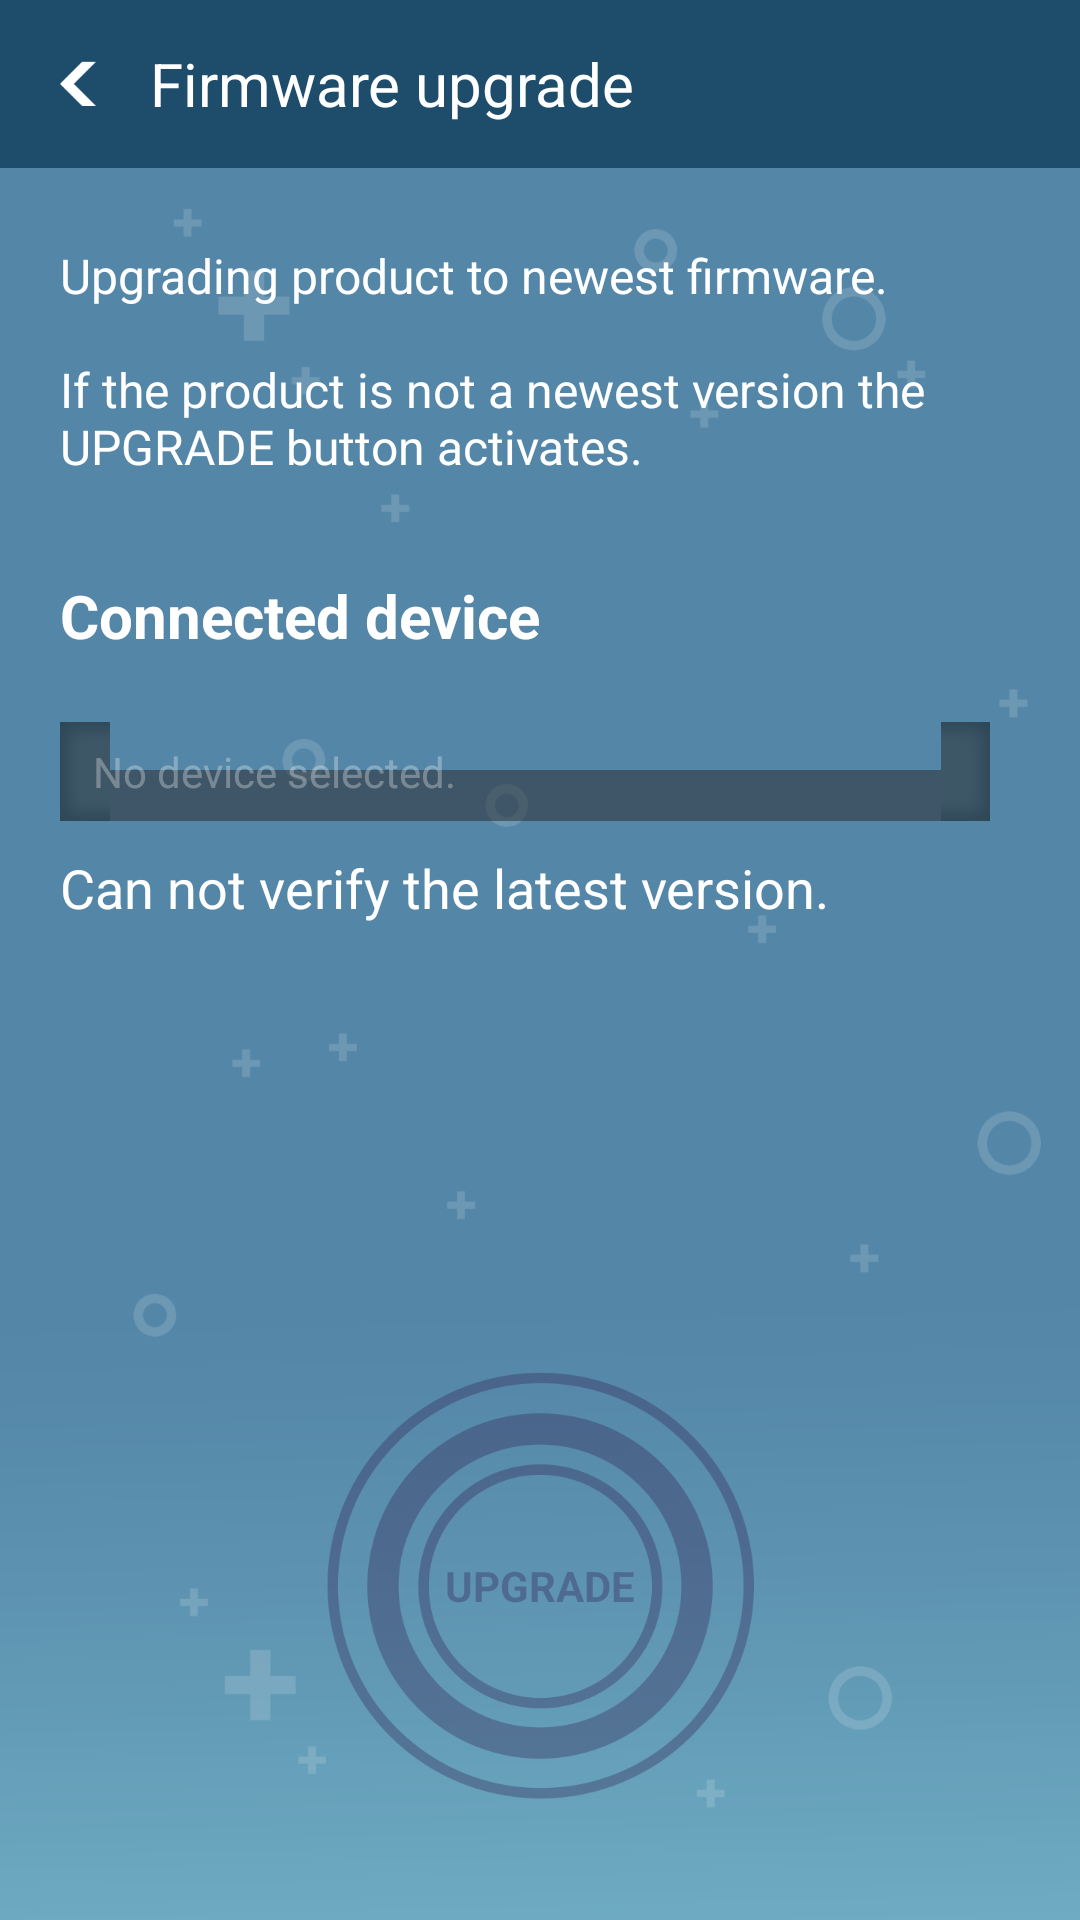

Icon bounding boxes for this 1080 x 1920 phone screenshot, format (x1, y1, x2, y2):
back: (60, 61, 96, 106)
